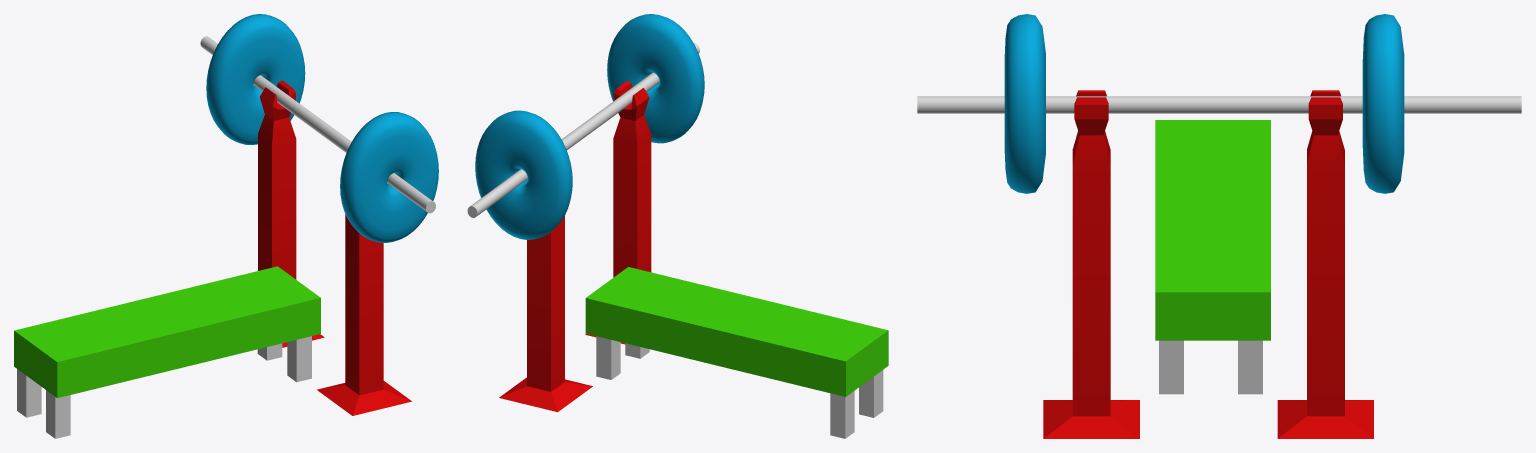
File: bench press new.fbx
3 views of the same model, side by side, from view 1: azimuth 30°, elevation 25°; view 2: azimuth 150°, elevation 25°; view 3: azimuth 270°, elevation 25° (orthographic). The views are drawn at different scales.
Parts seen in each view (by area): view 1: Bench Press; view 2: Bench Press; view 3: Bench Press.
Part boxes in pixels (x1,y1,x2,y2): Bench Press: (14, 14, 438, 438); Bench Press: (467, 14, 888, 438); Bench Press: (917, 14, 1521, 438).
Bounding box in the file's own units: 45.88 × 39.65 × 54.19.
